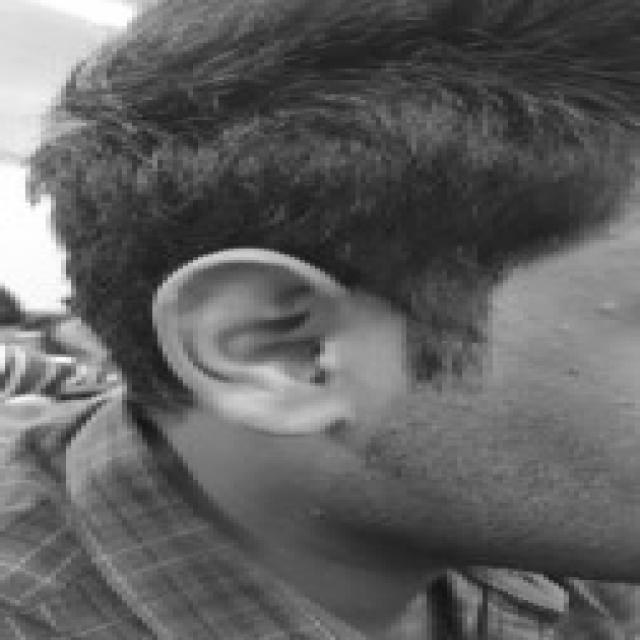ear: (152, 246, 350, 431)
